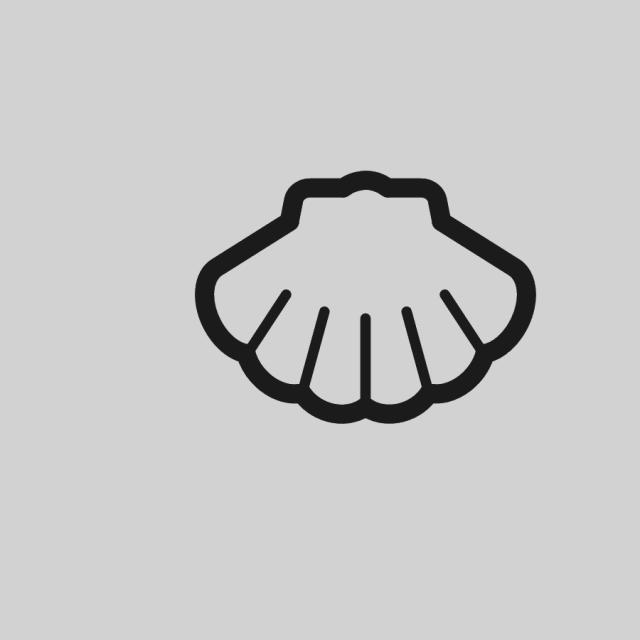shell: (188, 166, 542, 434)
